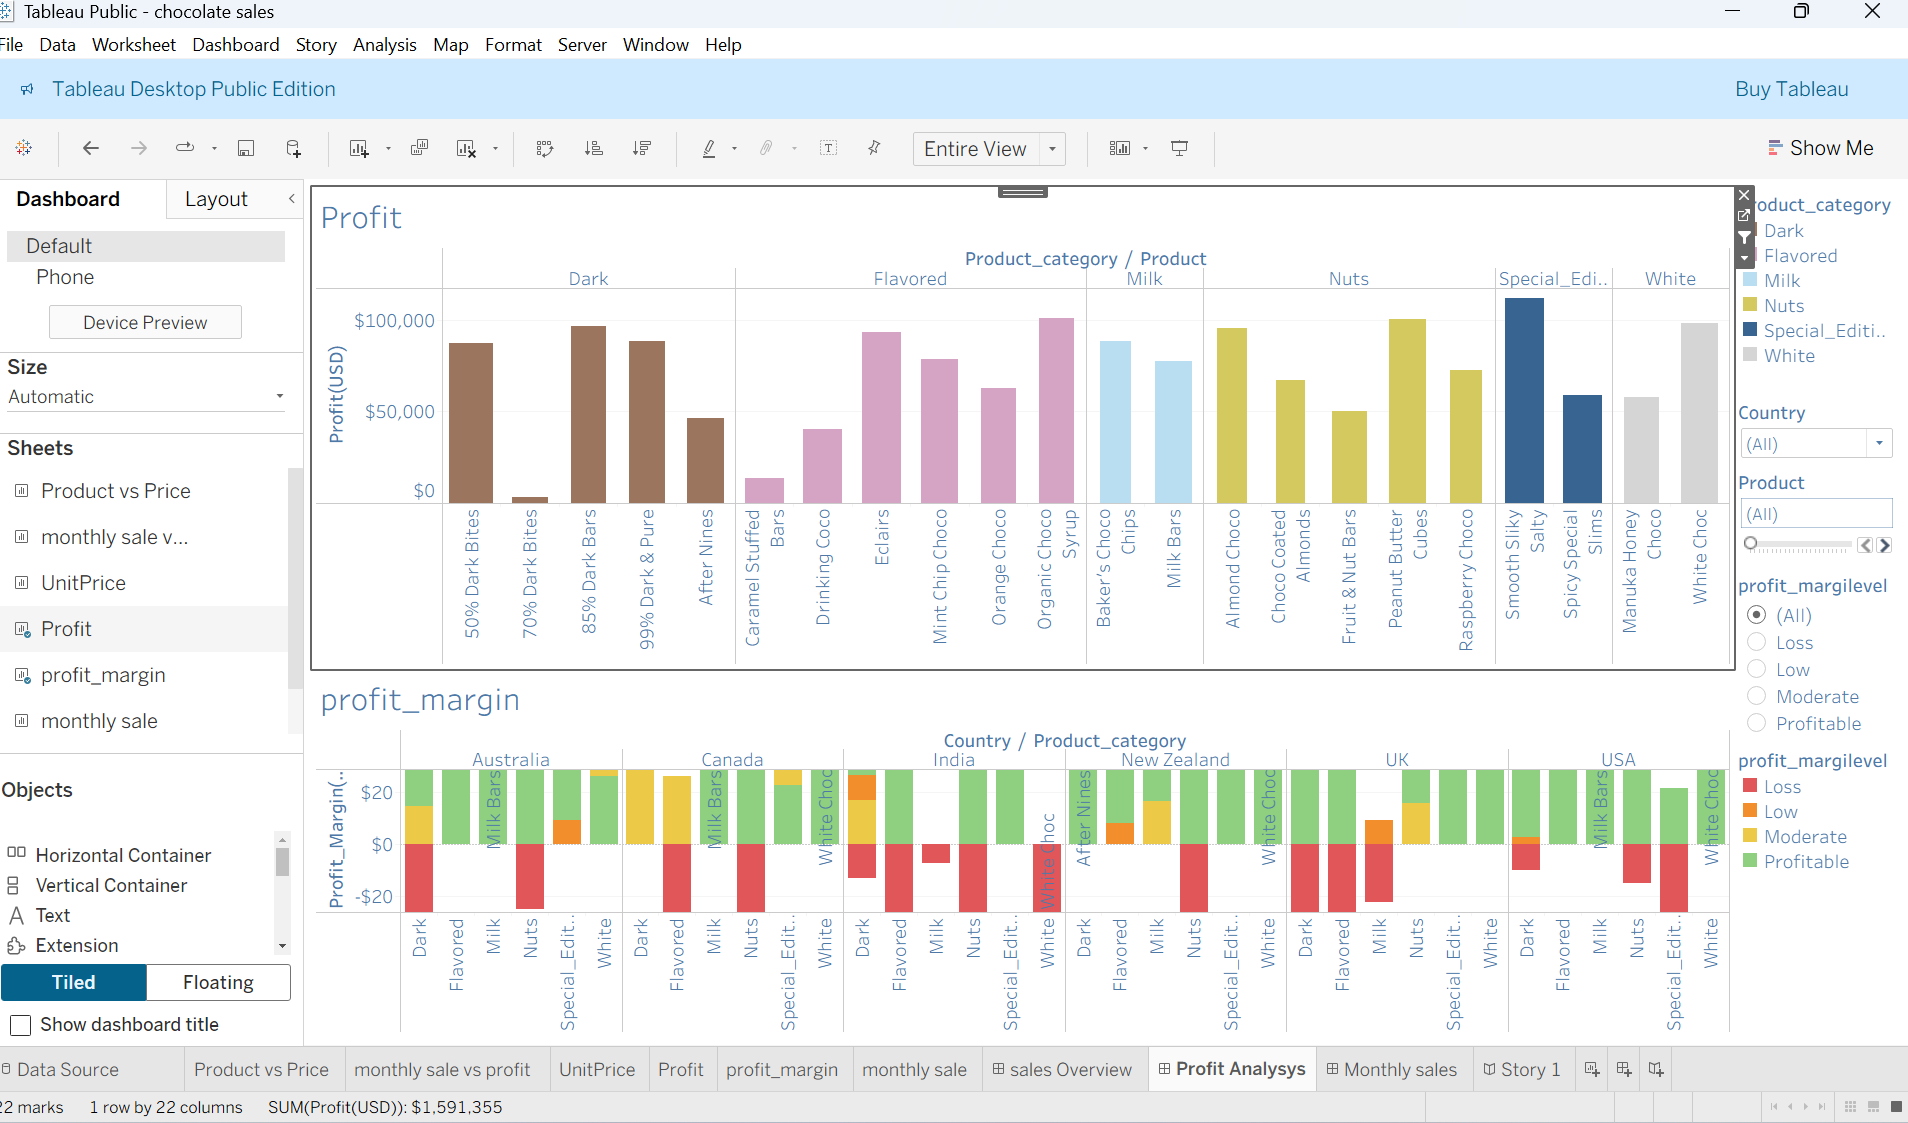

What the dashboard file says about the page in this screenshot:
{"tool":"tableau","page":{"name":"Profit Analysys","canvas":[1000,1000],"units":"permille","ordinal":1},"visuals":[{"type":"worksheet","title":"Profit","mark":"Automatic","rows":["Calculation_1574571086538612736"],"cols":["Product"],"box":[5,9.2,886.5,556.6]},{"type":"legend","title":"Profit","param":"[federated.1tjpulj03pkjac1d1enix0oqddwb].[Product_category]","box":[891.5,9.2,103.5,240.2]},{"type":"filter","title":"profit_margin","param":"[federated.1tjpulj03pkjac1d1enix0oqddwb].[none:Country:nk]","box":[891.5,249.4,103.5,80.8]},{"type":"filter","title":"profit_margin","param":"[federated.1tjpulj03pkjac1d1enix0oqddwb].[none:Product:nk]","box":[891.5,330.3,103.5,118.9]},{"type":"filter","title":"profit_margin","param":"[federated.1tjpulj03pkjac1d1enix0oqddwb].[usr:Calculation_1600185310352162816:nk","box":[891.5,449.2,103.5,202.1]},{"type":"worksheet","title":"profit_margin","mark":"Automatic","rows":["Calculation_1981020953136369664"],"cols":["Country"],"box":[5,565.8,886.5,424.9]},{"type":"legend","title":"profit_margin","param":"[federated.1tjpulj03pkjac1d1enix0oqddwb].[usr:Calculation_1600185310352162816:nk","box":[891.5,651.3,103.5,154.7]}]}

Visuals, with their boxes on the dashboard's canvas, which has no fixed pixel size, in thousandths of its width and height (x1, y1, x2, y2). These are canvas units, not pixel positions in the 1908x1123 screenshot, which may show the page scaled, cropped or inside an application window:
"Profit" worksheet: left=5, top=9, right=892, bottom=566
"Profit" legend: left=892, top=9, right=995, bottom=249
"profit_margin" filter: left=892, top=249, right=995, bottom=330
"profit_margin" filter: left=892, top=330, right=995, bottom=449
"profit_margin" filter: left=892, top=449, right=995, bottom=651
"profit_margin" worksheet: left=5, top=566, right=892, bottom=991
"profit_margin" legend: left=892, top=651, right=995, bottom=806
